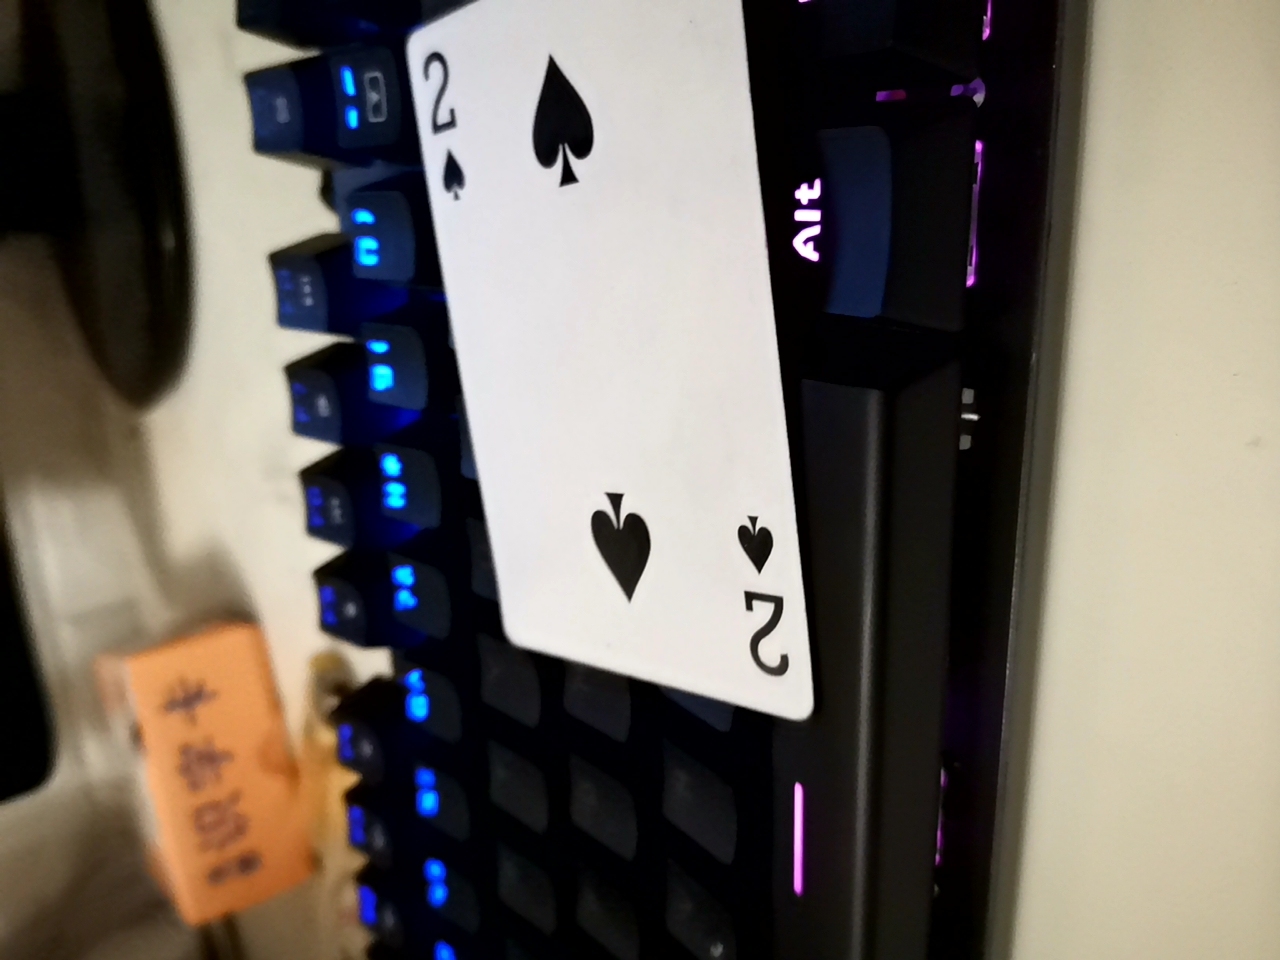ht 2: (402, 30, 817, 758)
